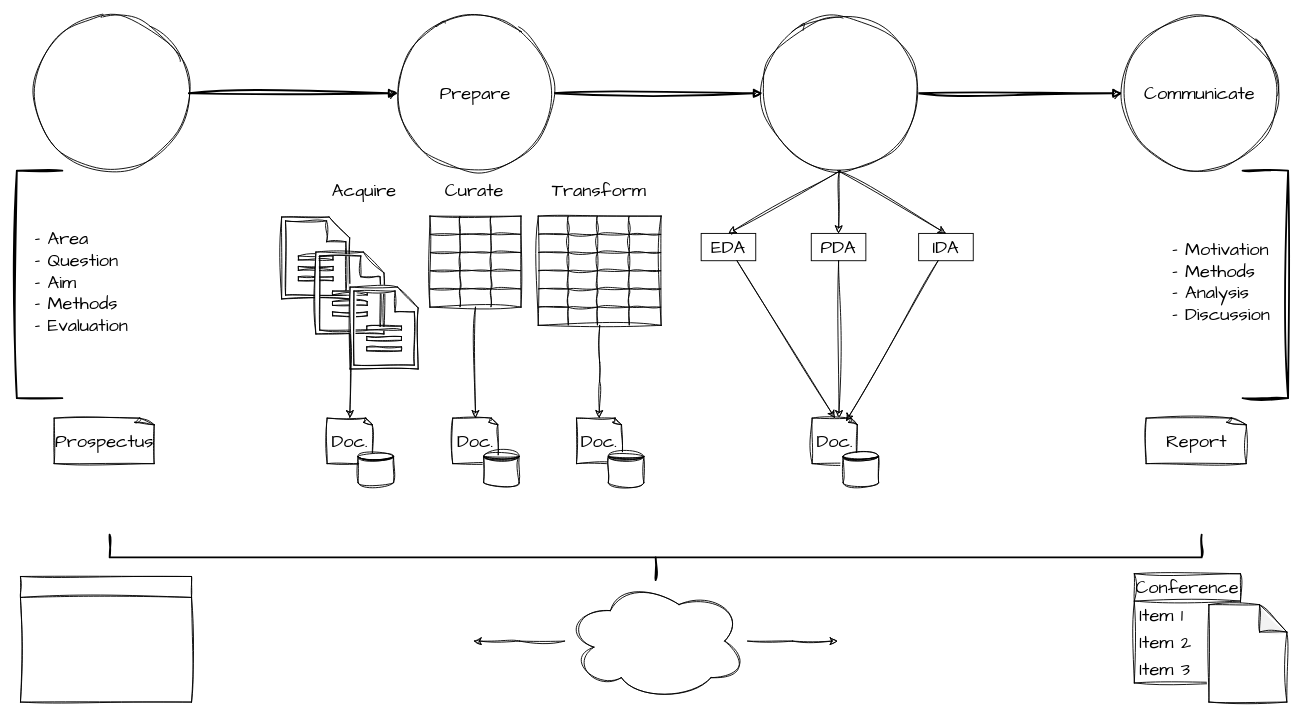
The diagram is 1308 pixels wide and 718 high, and some of its shapes have lost their labels. The shapes that lost their labels are listed below. From the top down, each one's centre as x and y in pixels, then its label:
the point at 111,93: Frame
the point at 840,93: Analyze
the point at 106,639: Open science
the point at 656,640: Code repo
the point at 1247,653: Journal
